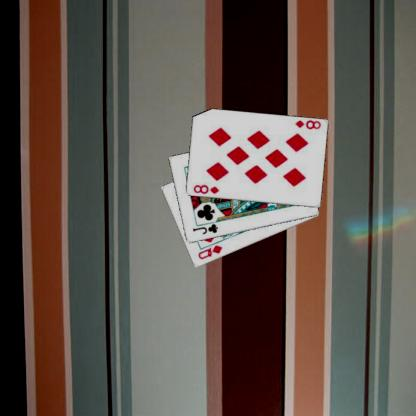8D: (191, 182, 220, 196), (292, 118, 322, 131)
JC: (190, 221, 219, 236)
QD: (196, 243, 224, 261)
